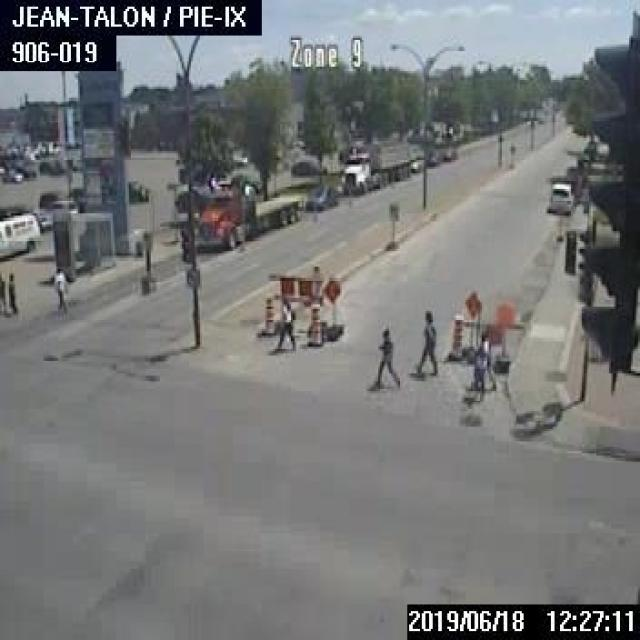construction: (267, 264, 343, 340), (456, 288, 515, 372), (446, 314, 464, 358), (306, 302, 321, 344), (259, 294, 273, 334)
pedestrian: (467, 331, 496, 390), (373, 322, 398, 387), (415, 309, 437, 374), (272, 297, 295, 349), (55, 264, 67, 314), (6, 271, 16, 310), (0, 270, 5, 310)
vehicle: (195, 187, 305, 249), (340, 144, 410, 194), (0, 211, 38, 256), (36, 197, 77, 228), (303, 183, 336, 211), (546, 182, 574, 214), (2, 157, 34, 176), (127, 178, 148, 201), (289, 158, 318, 173), (0, 166, 22, 181), (52, 156, 70, 171), (37, 160, 57, 172), (67, 153, 81, 169), (440, 146, 456, 159), (424, 152, 437, 165), (407, 159, 421, 171), (414, 153, 425, 166)
